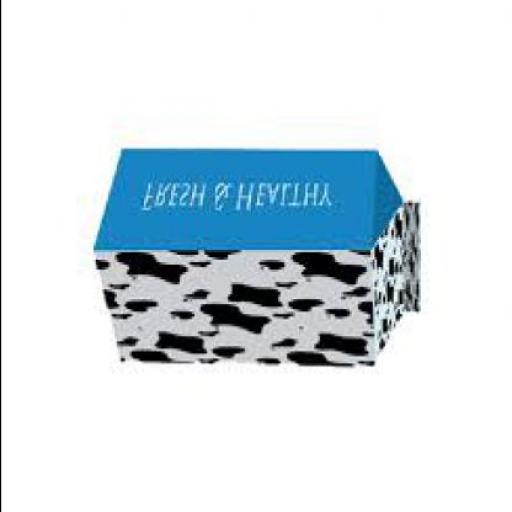cardboard: (94, 150, 422, 368)
